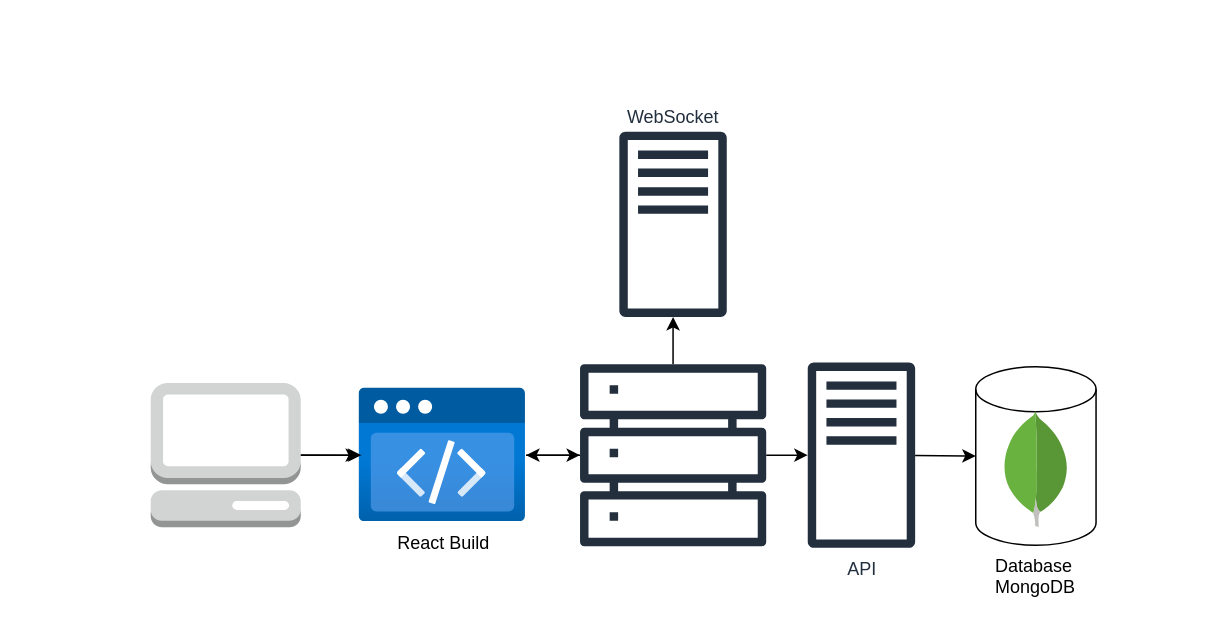
This 1206x627 diagram has some shape labels left out. Here are the shapes that lost their labels. From the top down, the centre of each, then its label:
At (x=225, y=454): "Client".
At (x=672, y=454): "NGINX".
